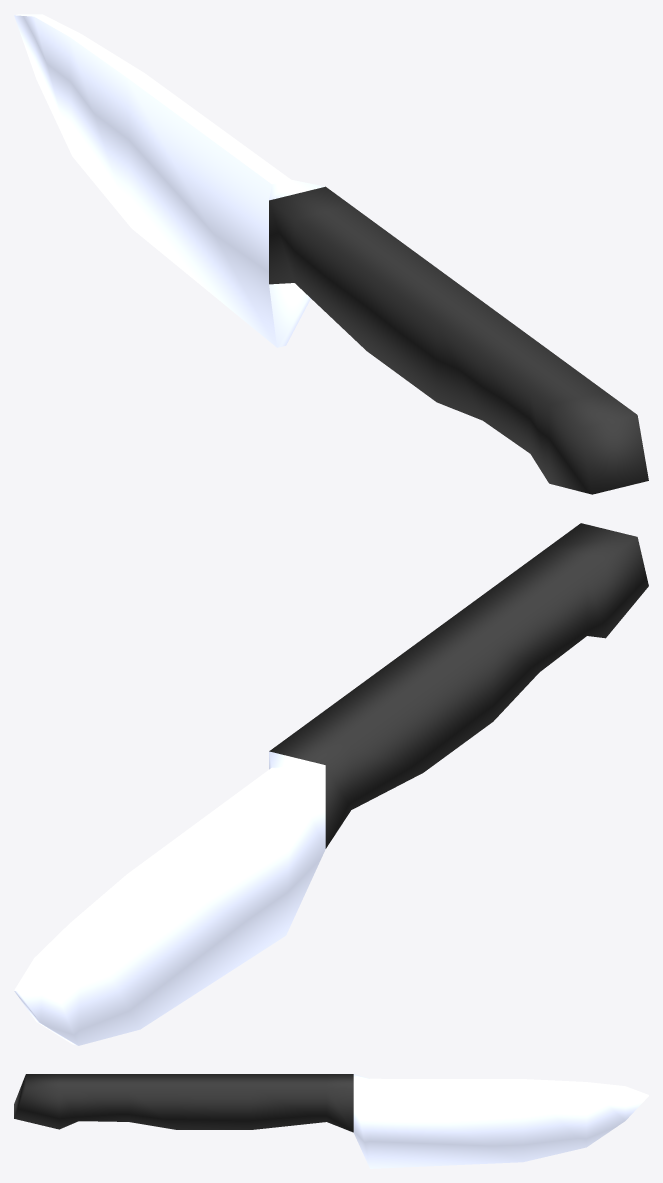
File: knife.fbx
3 views of the same model, one above another, from view 1: azimuth 30°, elevation 25°; view 2: azimuth 150°, elevation 25°; view 3: azimuth 270°, elevation 25° (orthographic). The views are drawn at different scales.
Visible parts, largest first — view 1: knife; view 2: knife; view 3: knife.
Part boxes in pixels (x1,y1,x2,y2): knife: [14, 14, 648, 494]; knife: [14, 523, 648, 1045]; knife: [14, 1074, 648, 1168].
Bounding box in the file's own units: 0.0617 × 0.1714 × 1.14.
